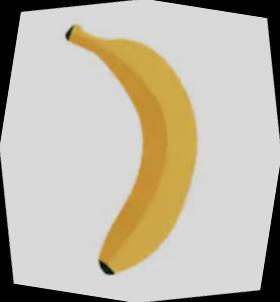Banana Ripe: (0, 9, 240, 302)
